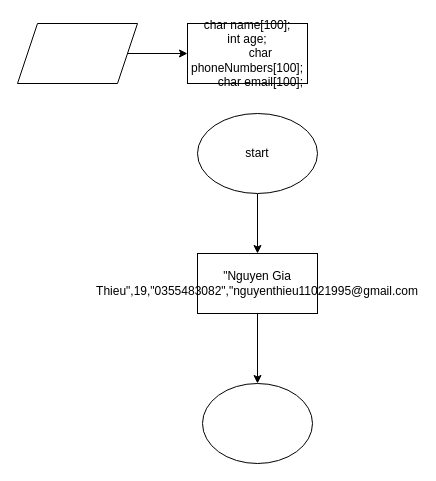
This 436x481 diagram has some shape labels left out. The box of each missing label's shape, as (x1, y1, x2, y2) in pixels:
end: (202, 382, 312, 464)
struct Person: (16, 22, 138, 84)
